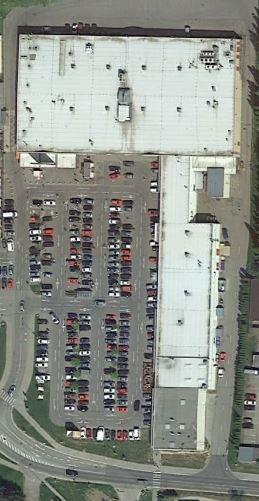shopping_center: (13, 28, 244, 455)
